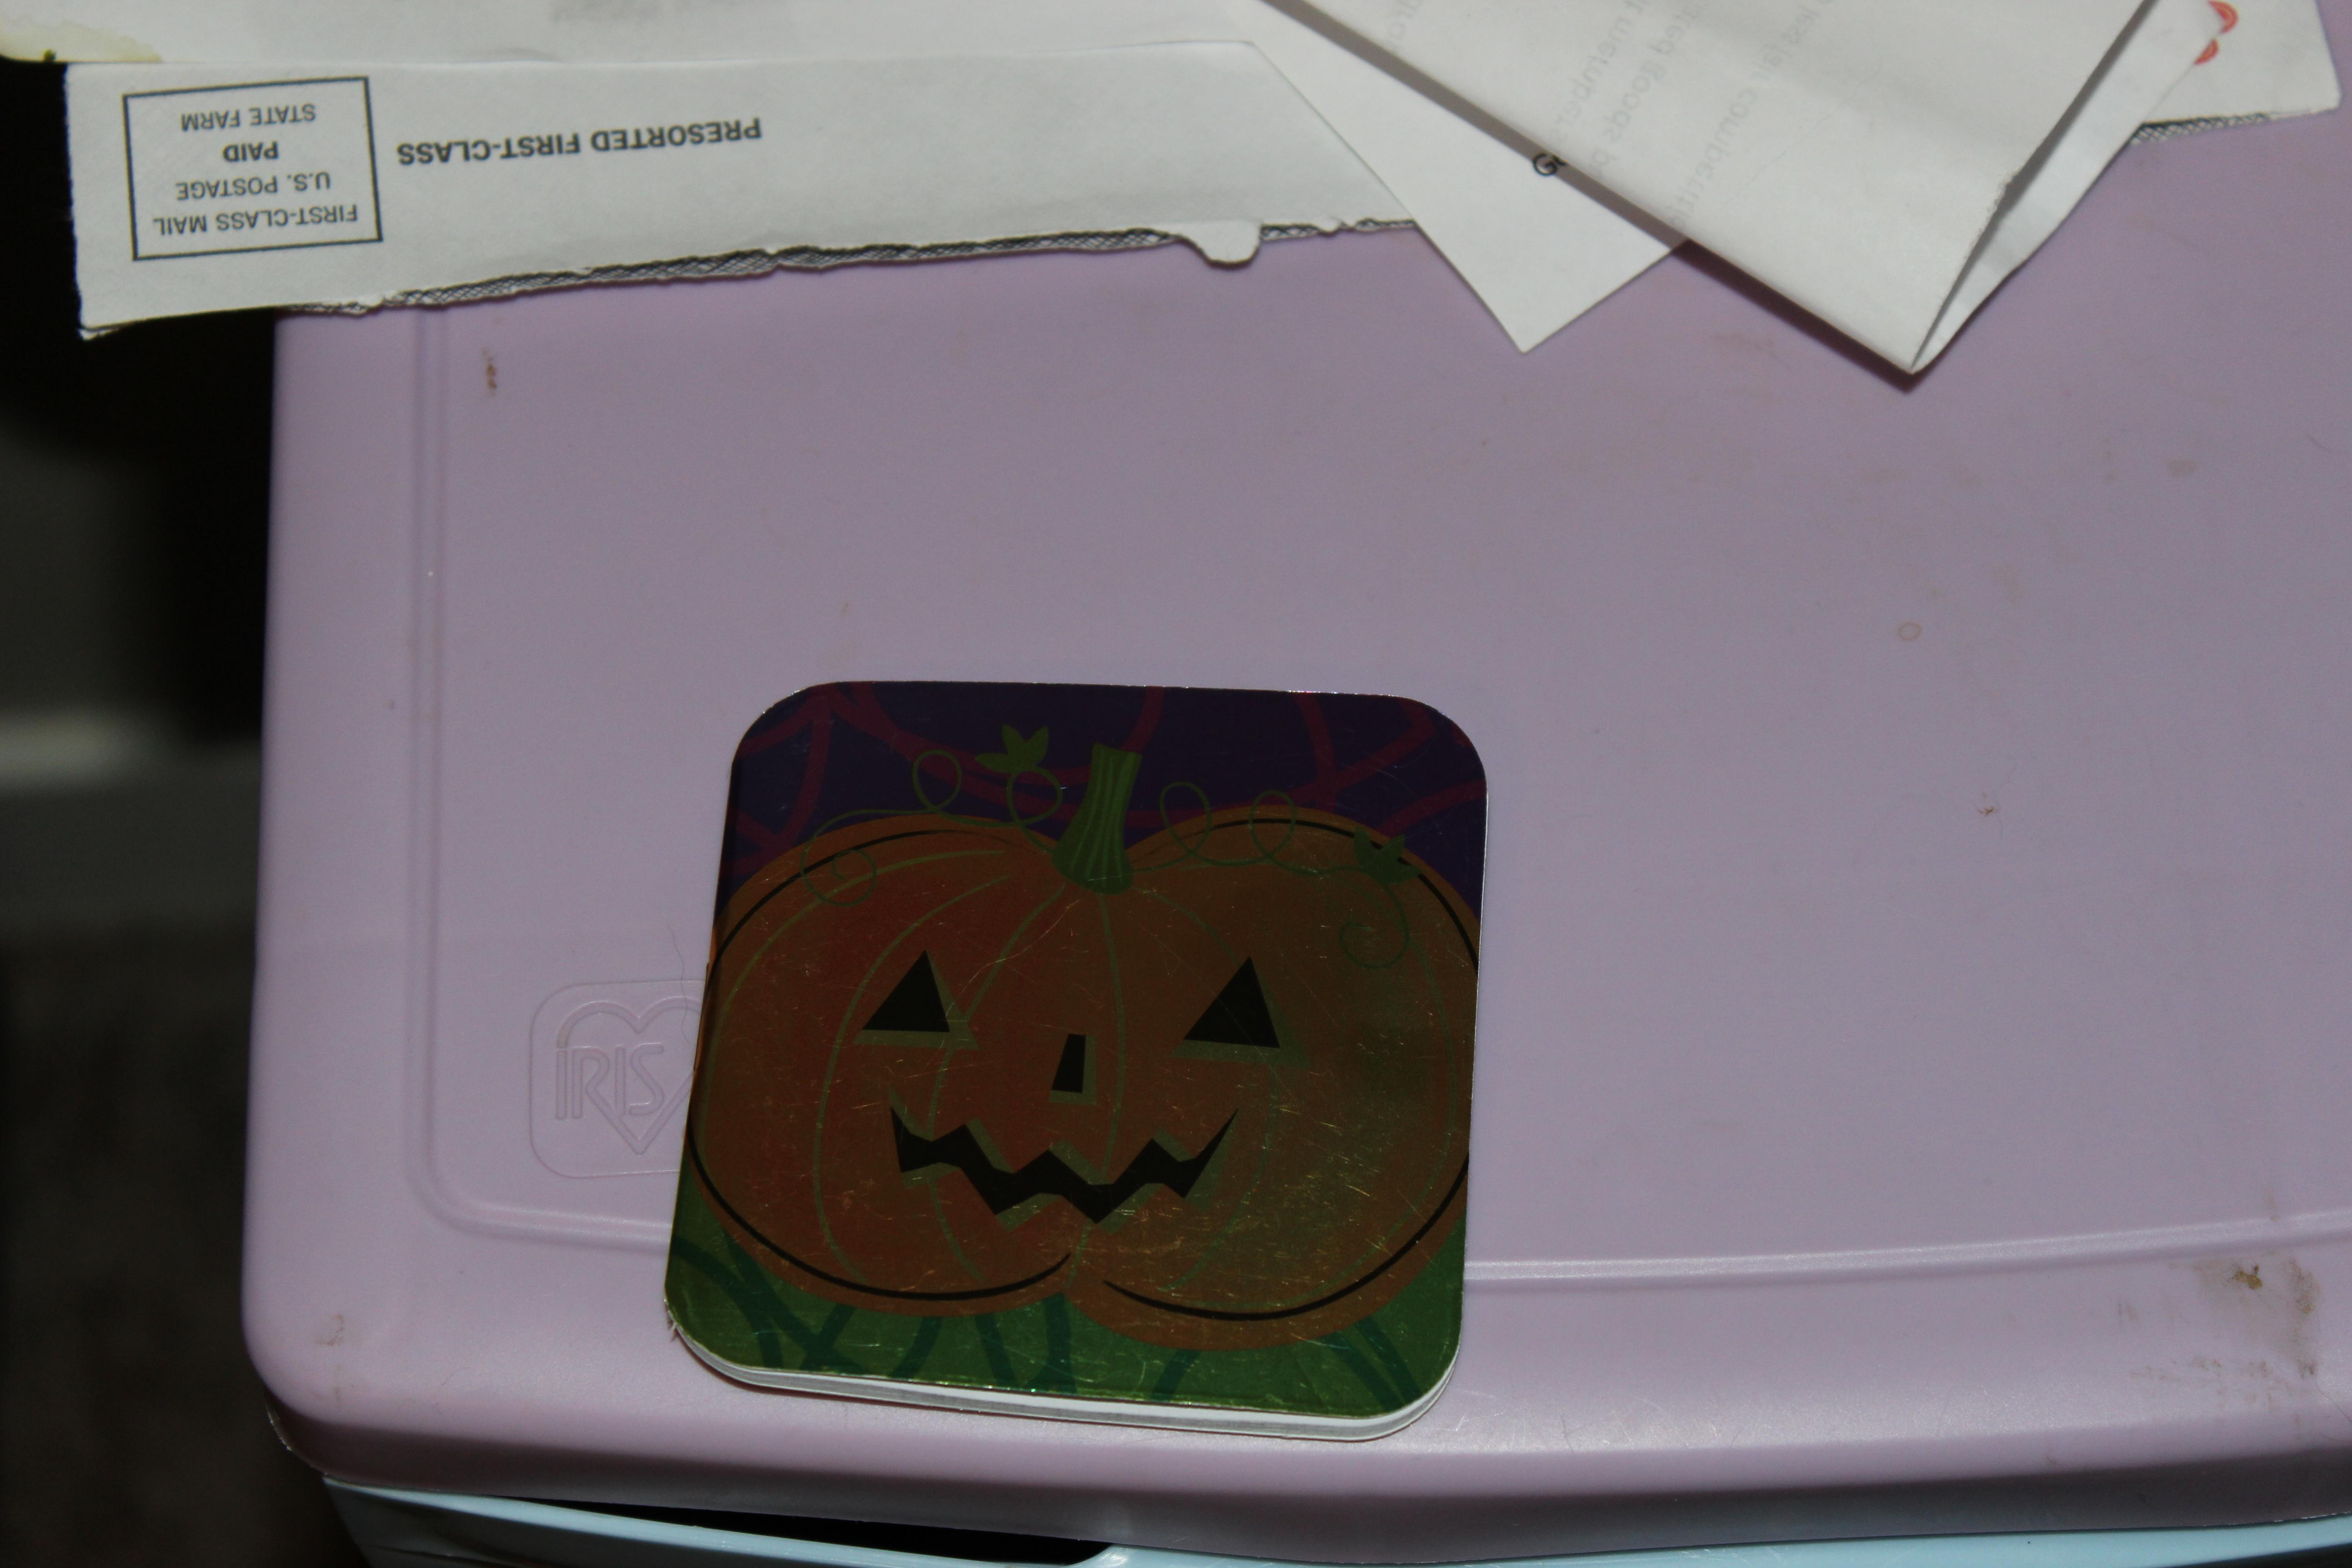pumpkinNotes: (633, 635, 1514, 1468)
